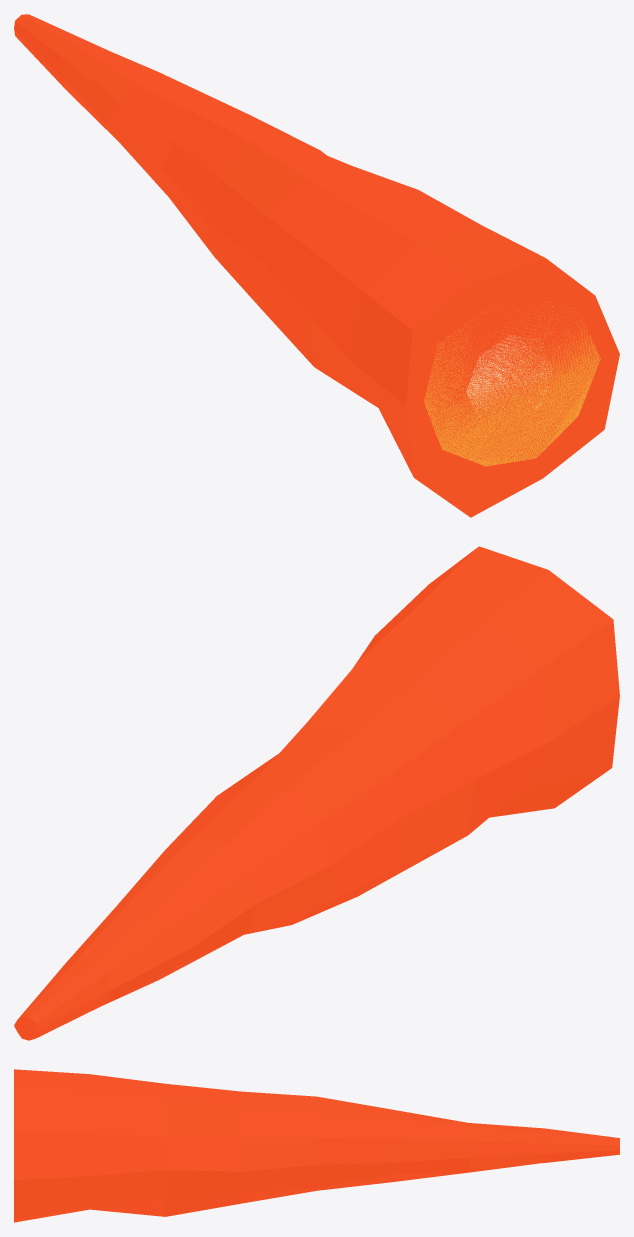
The model's file is rocket_flame.glb.
3 renders of one model, top to bottom at view 1: azimuth 30°, elevation 25°; view 2: azimuth 150°, elevation 25°; view 3: azimuth 270°, elevation 25°, orthographic. The views are drawn at different scales.
Parts seen in each view (by area): view 1: rocket_flame; view 2: rocket_flame; view 3: rocket_flame.
Part boxes in pixels (x1=…): rocket_flame: x1=14, y1=14, x2=619, y2=517; rocket_flame: x1=14, y1=546, x2=619, y2=1040; rocket_flame: x1=14, y1=1069, x2=619, y2=1222.
Bounding box in the file's own units: 0.1909 × 0.206 × 0.75.
